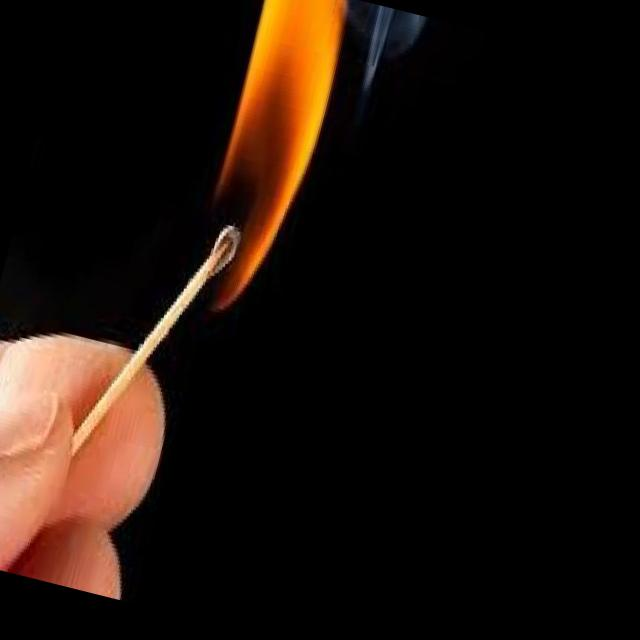Fire: (187, 0, 366, 323)
